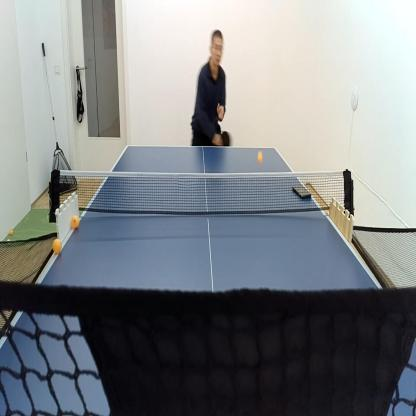Ball: (52, 237, 62, 253), (72, 216, 78, 229), (257, 152, 262, 162), (7, 239, 10, 245), (10, 229, 12, 235)
